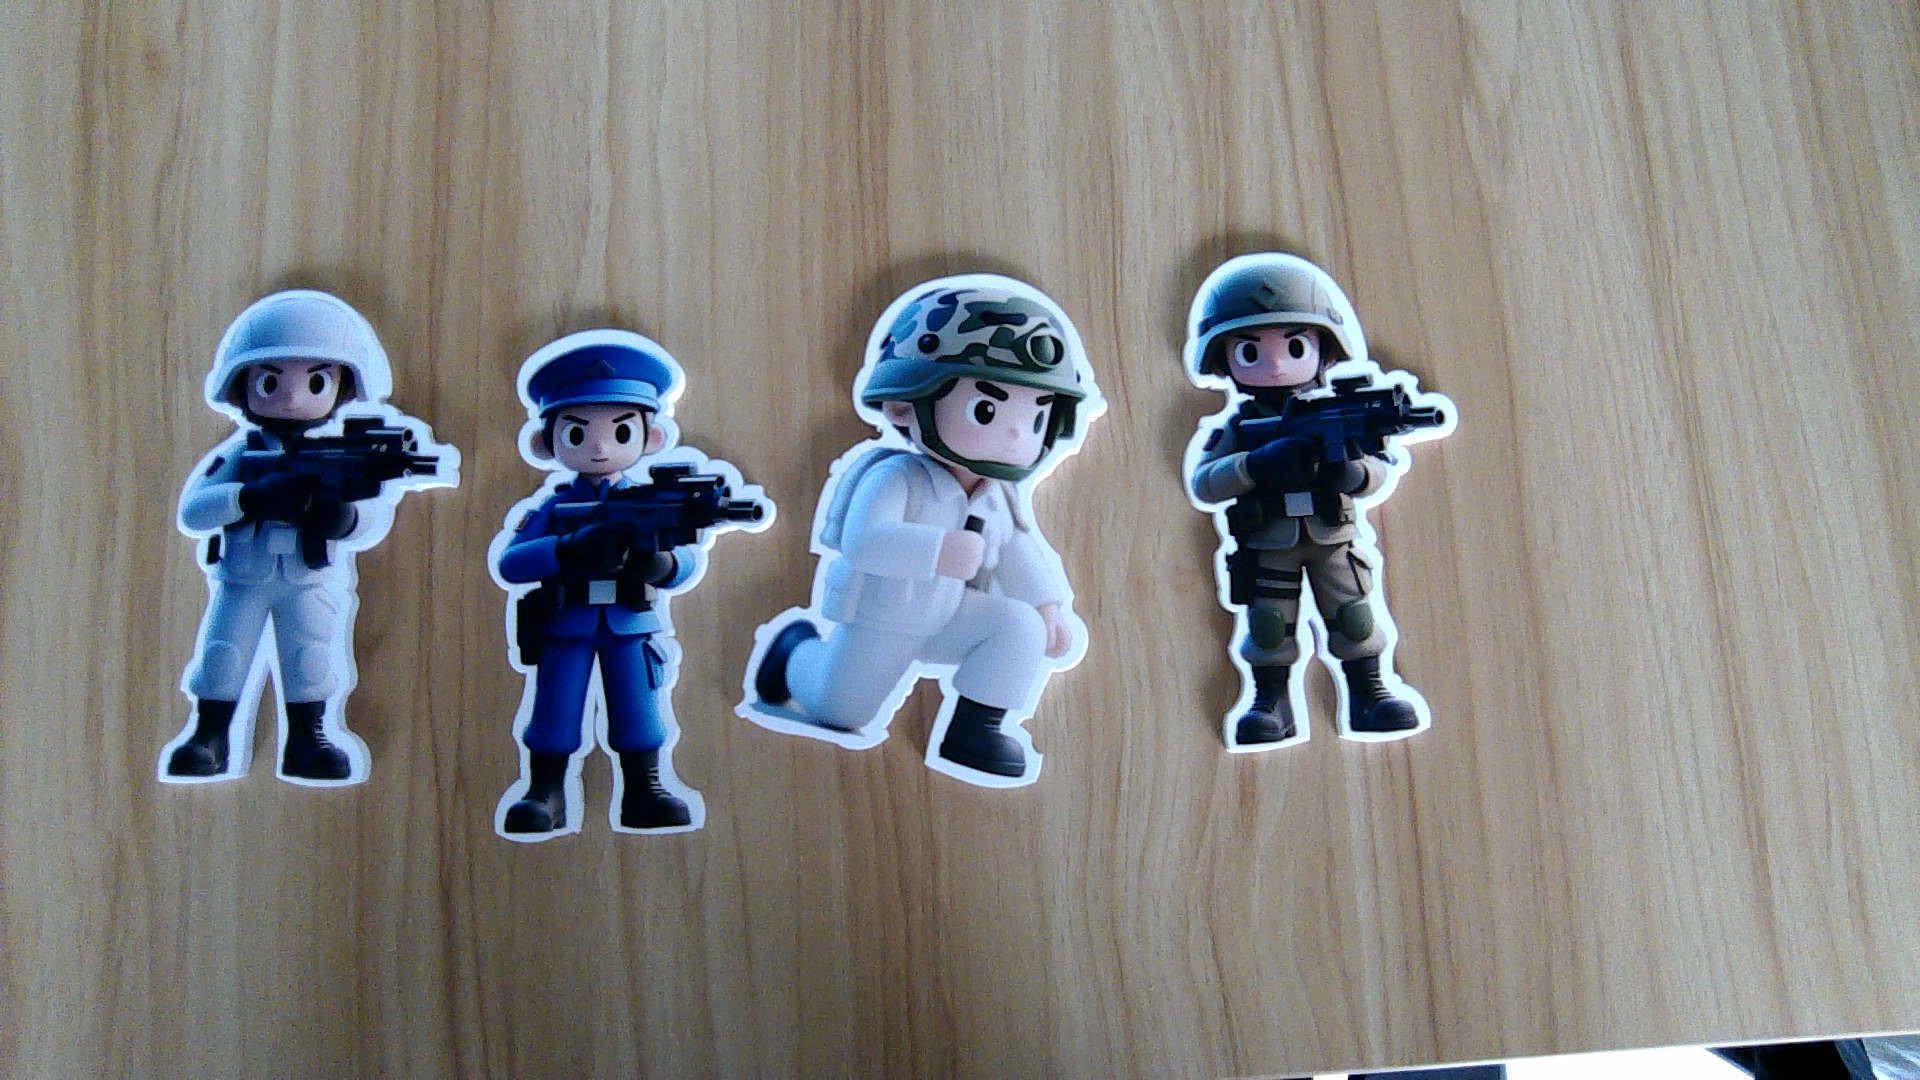人质: (746, 473, 1091, 793), (152, 433, 446, 795)
友军: (1168, 400, 1457, 760)
敌人2: (483, 480, 756, 843)
